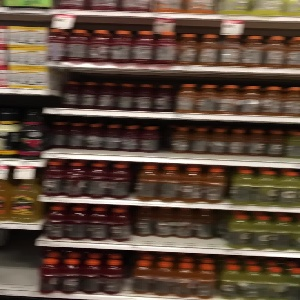void: (1, 228, 38, 289)
